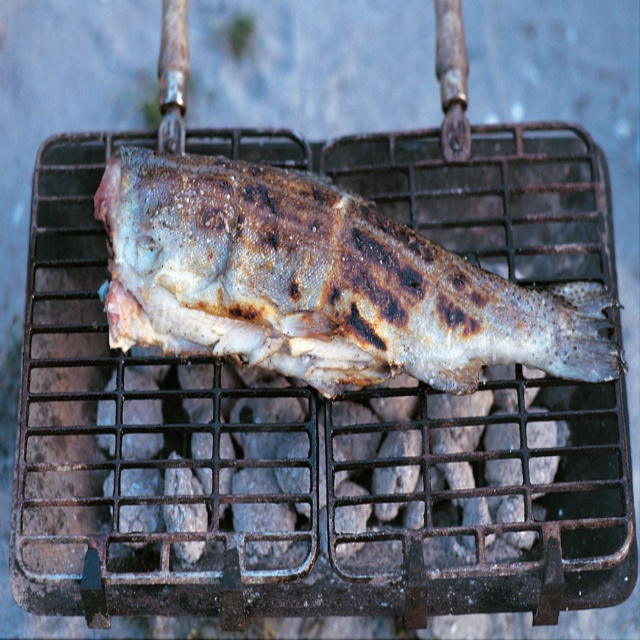Fish: (80, 135, 615, 403)
